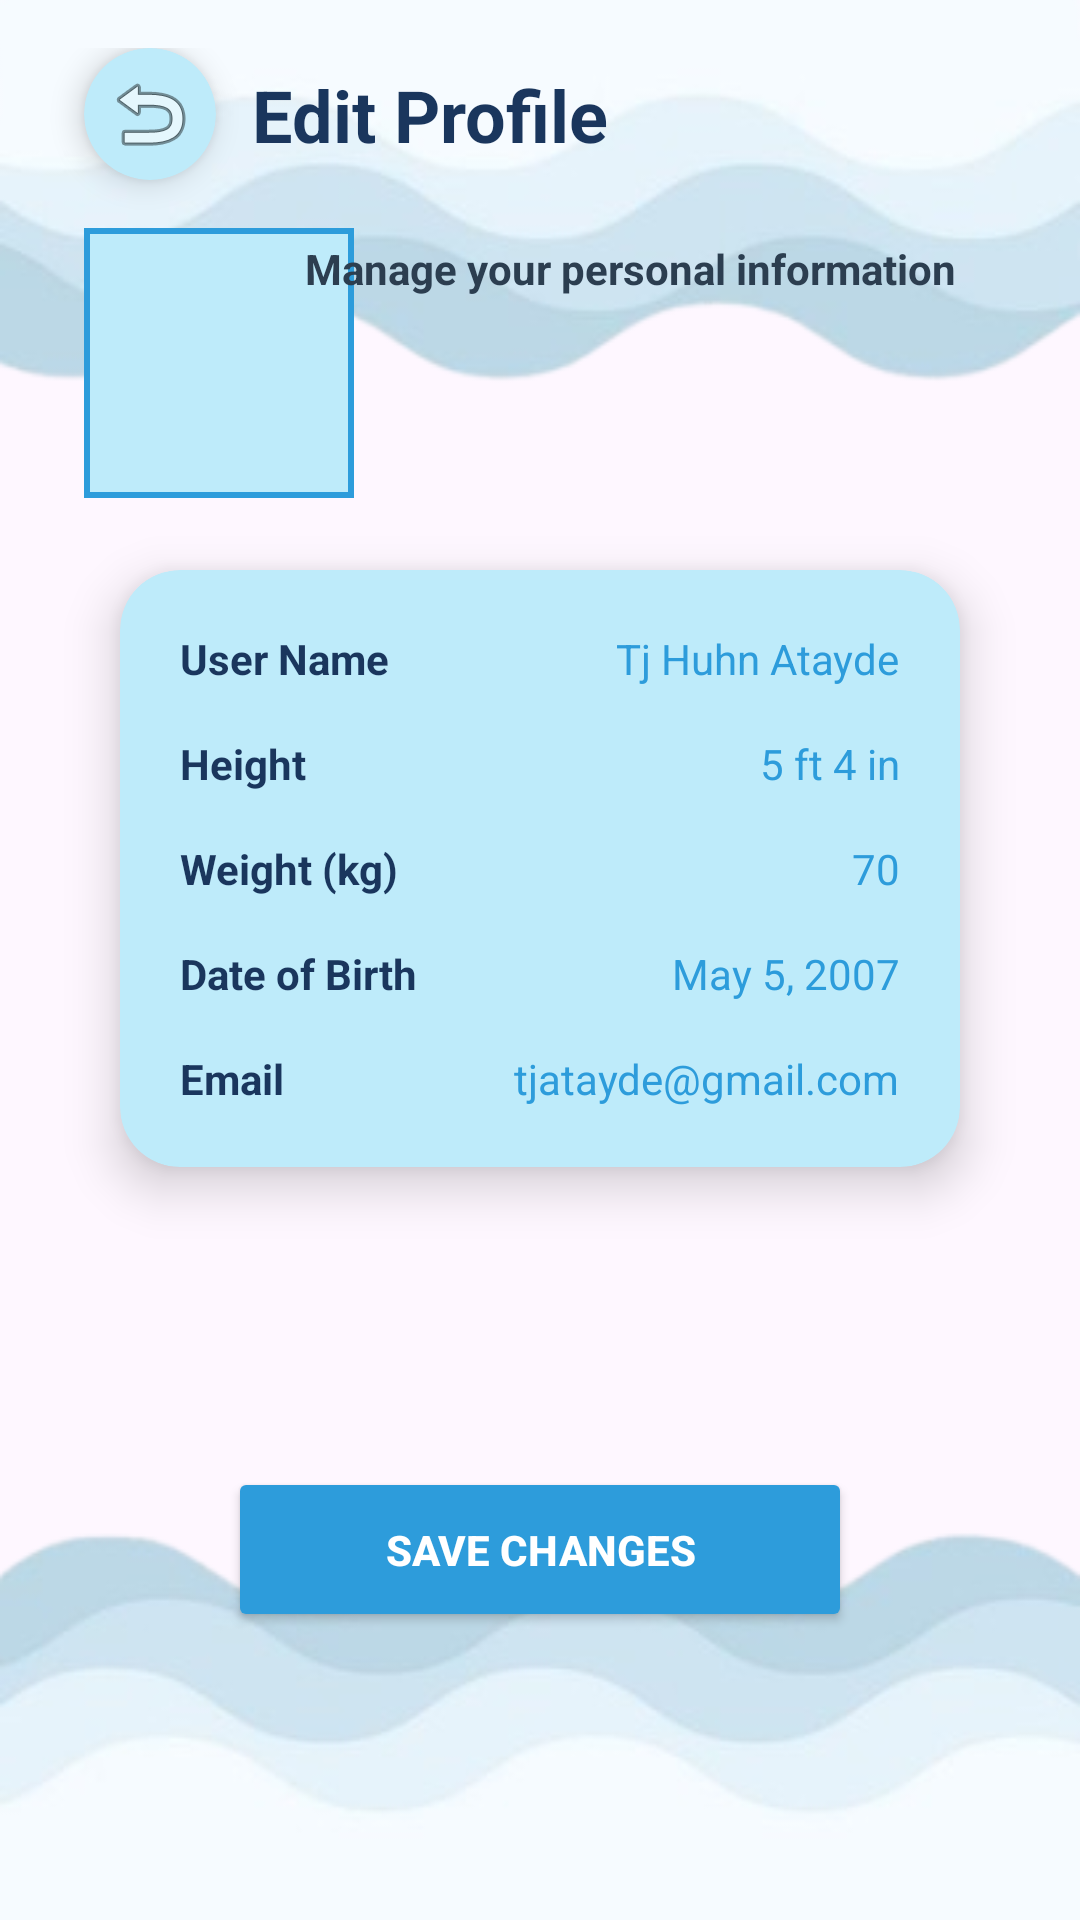

Where icons sit on this 1080px x 1920px app screen, as bbox=(x1, y1, x2, y2):
Back: bbox=(84, 48, 216, 180)
